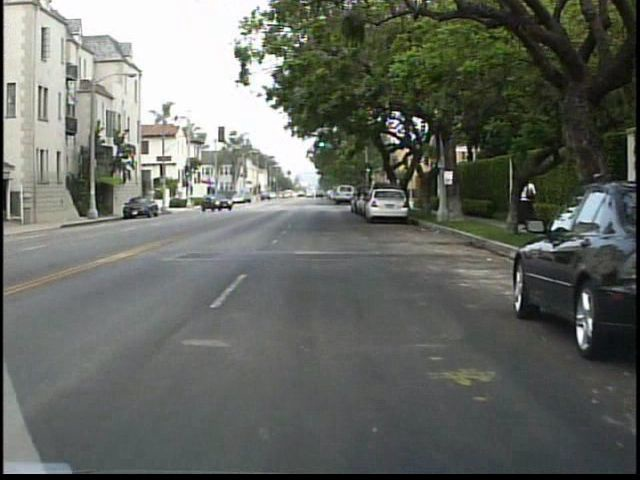person: (515, 180, 538, 225)
